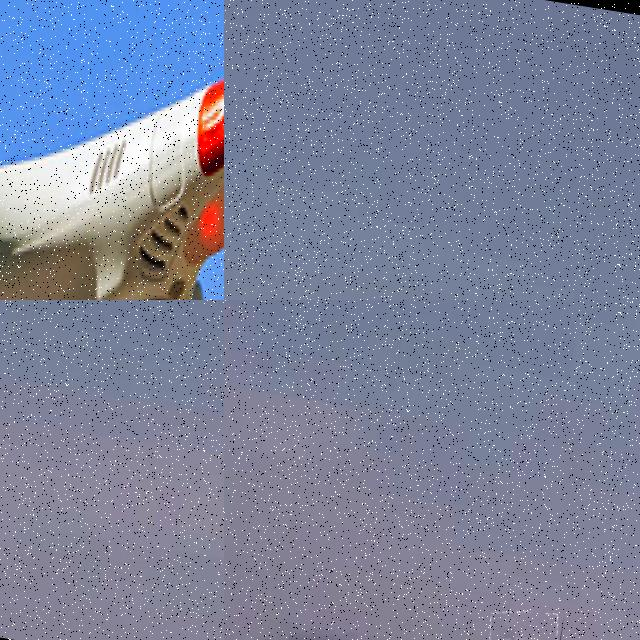0: (481, 606, 564, 640)
drone: (0, 0, 224, 300)
